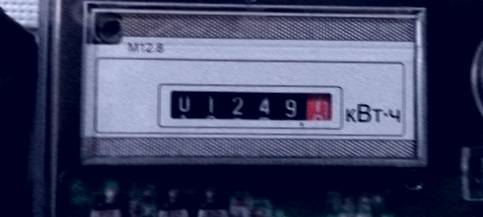0: (178, 91, 192, 111)
1: (205, 91, 217, 113)
2: (230, 93, 246, 115)
4: (259, 93, 272, 113)
7: (313, 91, 326, 111)
9: (285, 96, 298, 117)
screen: (155, 78, 347, 130)
